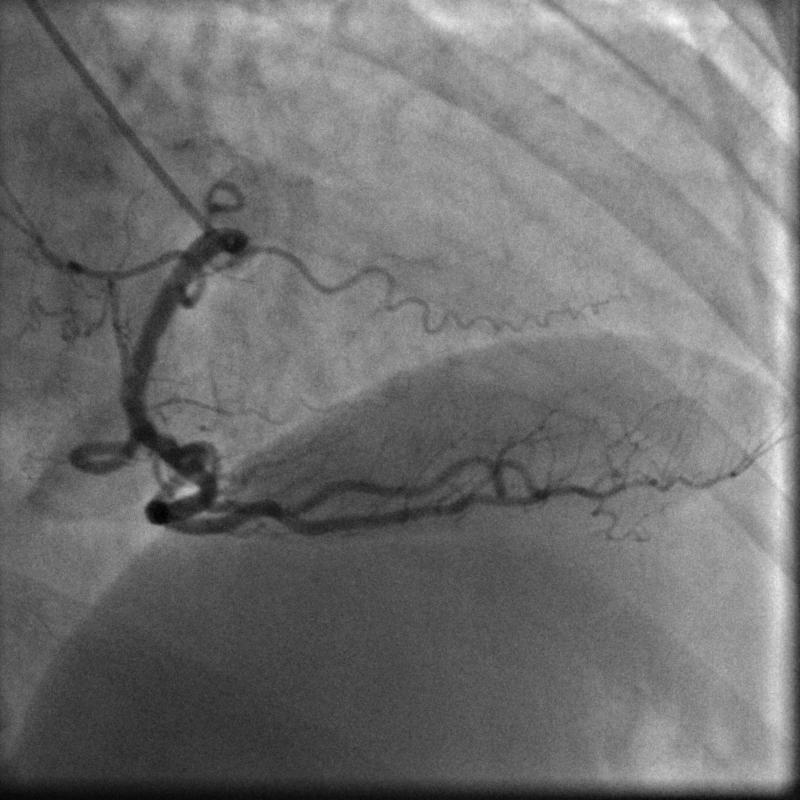Stenosis: (134, 431, 191, 462)
